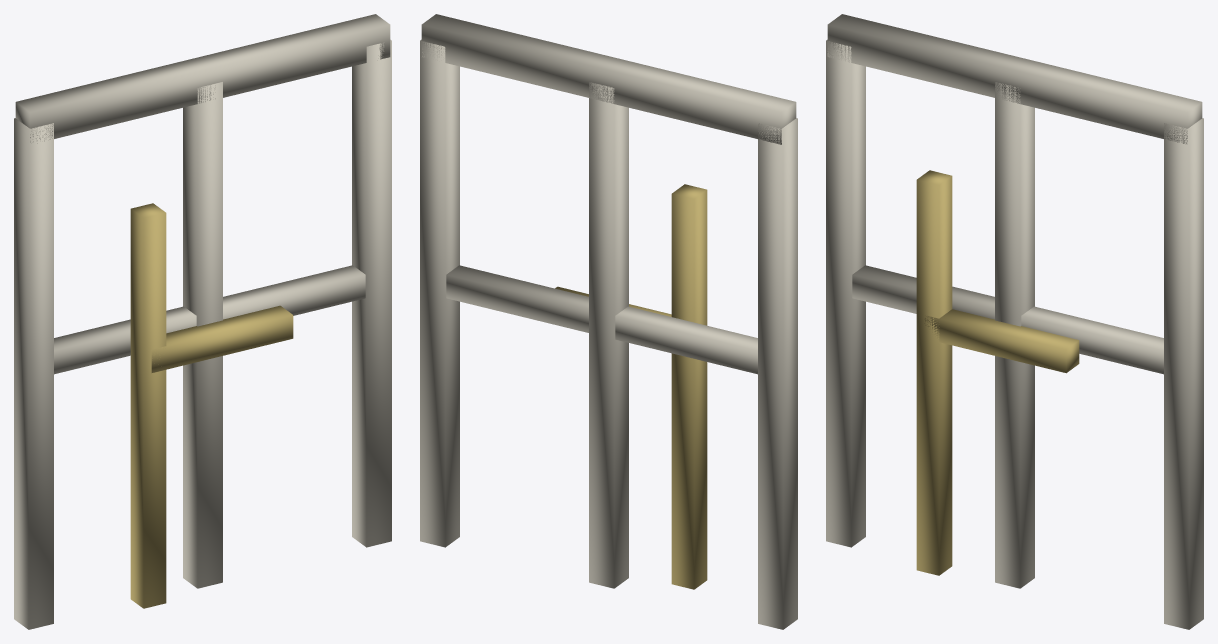
The model's file is civic_gate_l60_h85.glb.
3 views of the same model, side by side, from view 1: azimuth 30°, elevation 25°; view 2: azimuth 150°, elevation 25°; view 3: azimuth 330°, elevation 25° (orthographic).
Parts seen in each view (by area): view 1: world; view 2: world; view 3: world.
Part boxes in pixels (x1,y1,x2,y2): world: [14, 14, 391, 629]; world: [420, 14, 797, 629]; world: [826, 14, 1203, 629].
Bounding box in the file's own units: 0.645 × 0.8775 × 0.0825.
